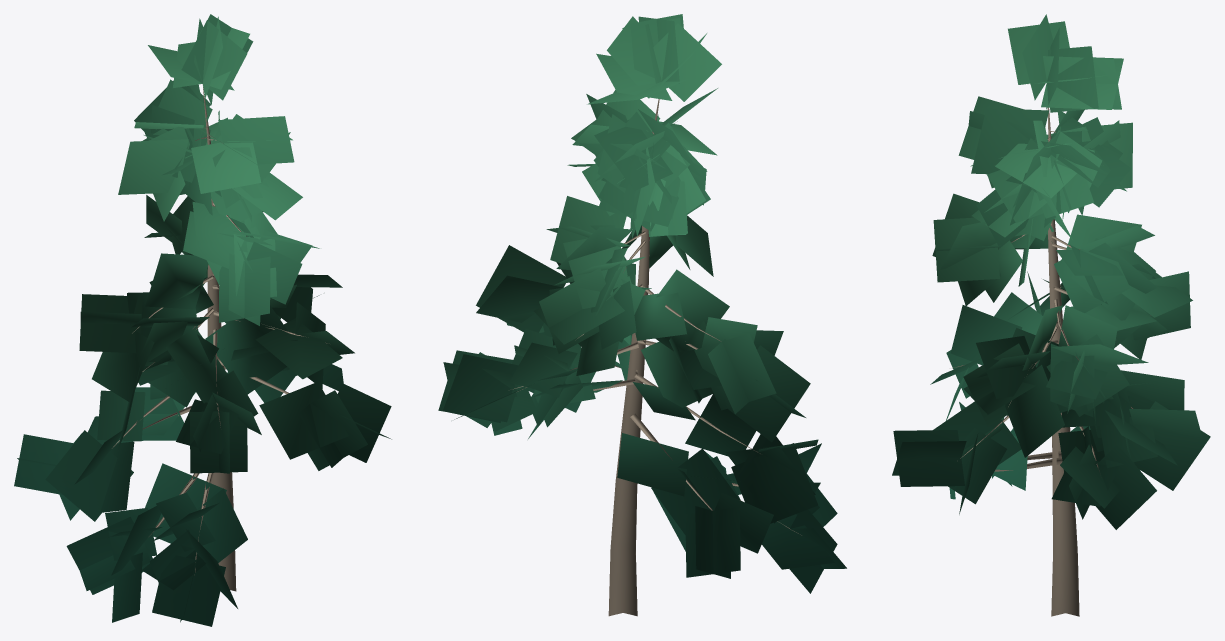
Rendered from pine-b.glb.
3 views of the same model, side by side, from view 1: azimuth 30°, elevation 25°; view 2: azimuth 150°, elevation 25°; view 3: azimuth 270°, elevation 25° (orthographic). The views are drawn at different scales.
Parts seen in each view (by area): view 1: pine-b; view 2: pine-b; view 3: pine-b.
Boxes of the visible parts, x1,y1,x2,y2 form: pine-b: (14,14,391,626); pine-b: (438,14,846,616); pine-b: (892,14,1210,616).
Bounding box in the file's own units: 8.01 × 13.5 × 6.99.
